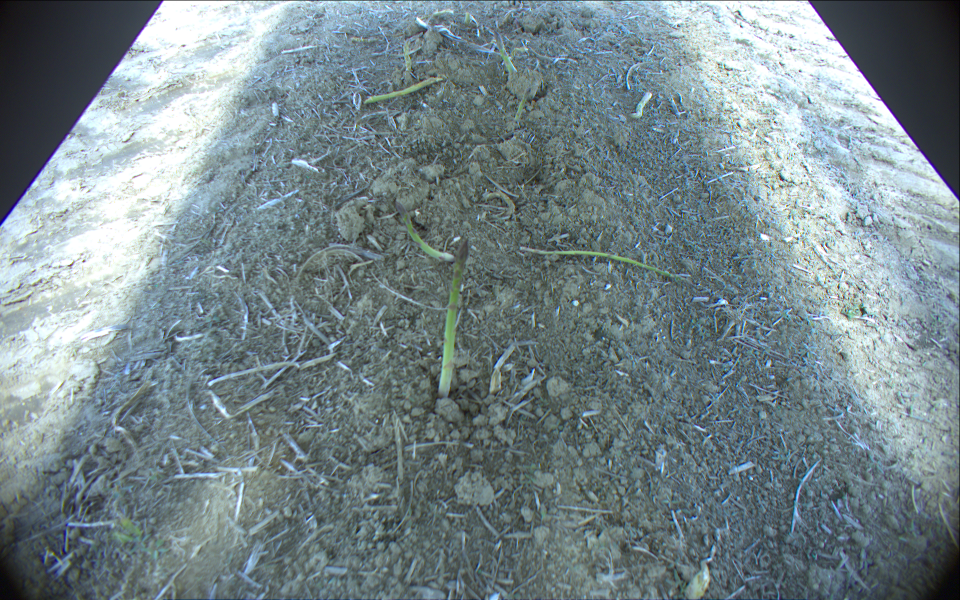aspa: (521, 248, 688, 282), (435, 239, 470, 399), (343, 8, 457, 45), (395, 200, 454, 263), (358, 77, 446, 105), (493, 18, 516, 74), (626, 90, 654, 121), (685, 566, 710, 600), (513, 84, 535, 121), (402, 40, 412, 71)
